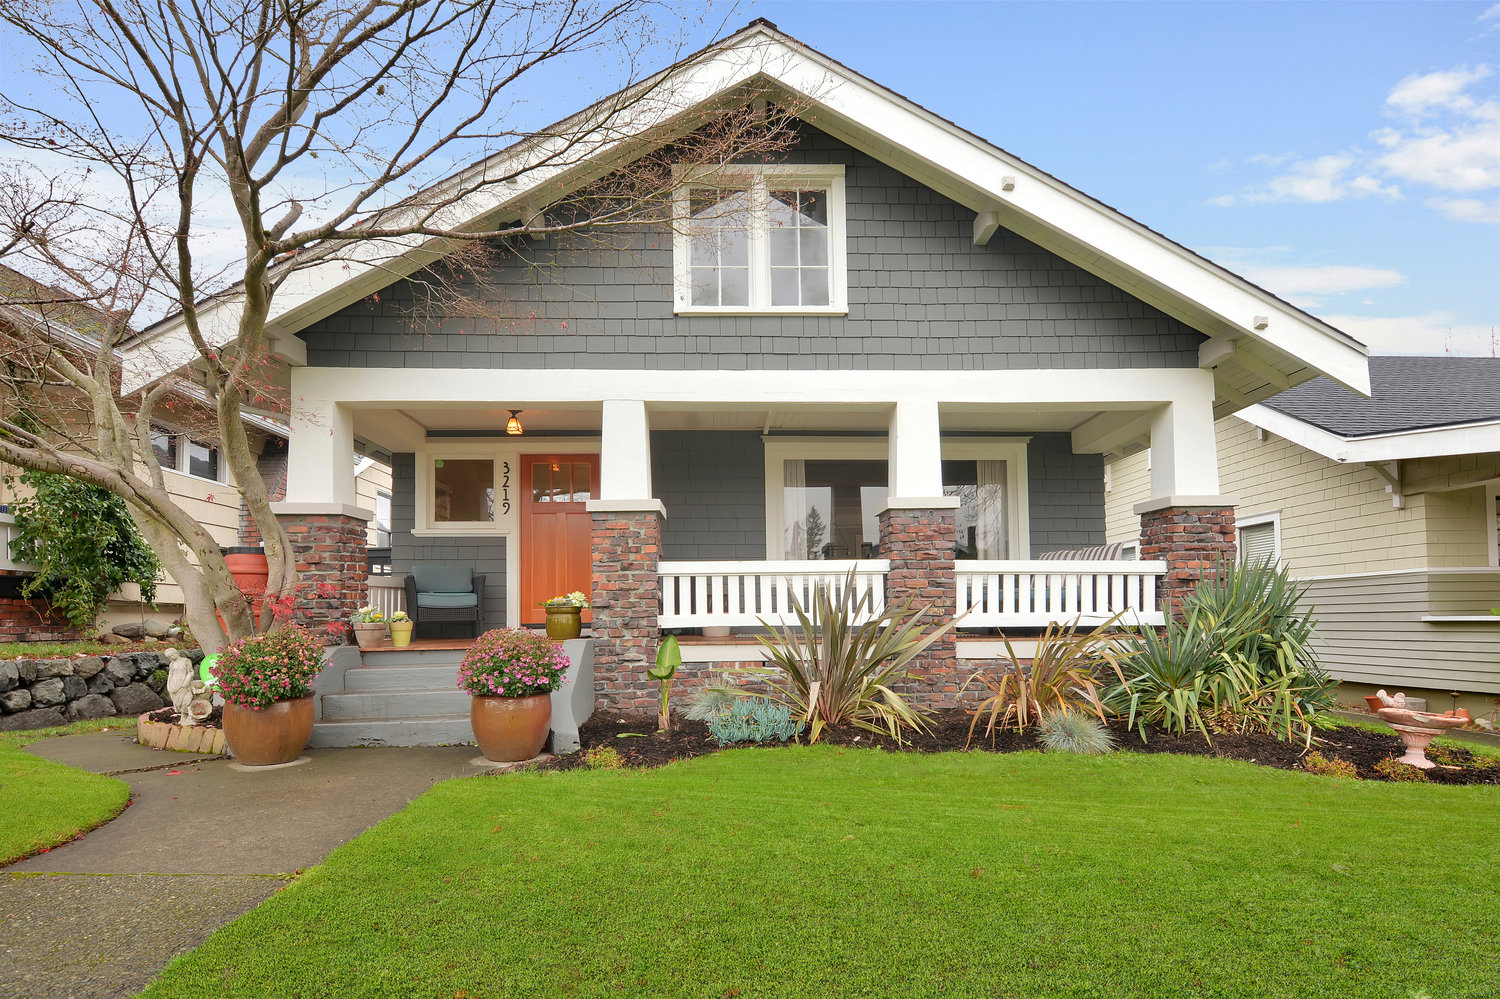Window: (764, 444, 1033, 560), (681, 168, 839, 313), (425, 453, 501, 524), (148, 421, 217, 478), (528, 457, 594, 510)
